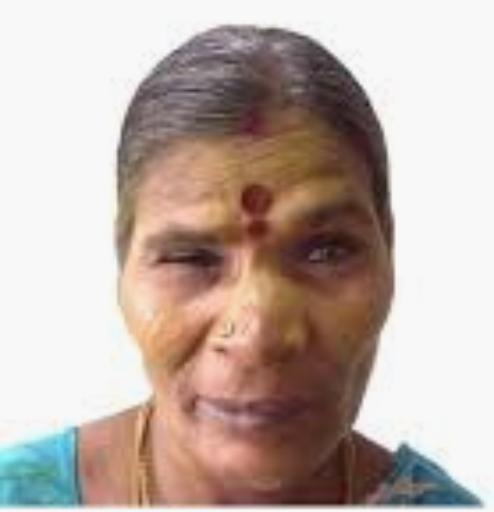left_eye: (299, 238, 364, 273)
right_eye: (155, 249, 226, 276)
right_lip_corner: (182, 388, 214, 417)
